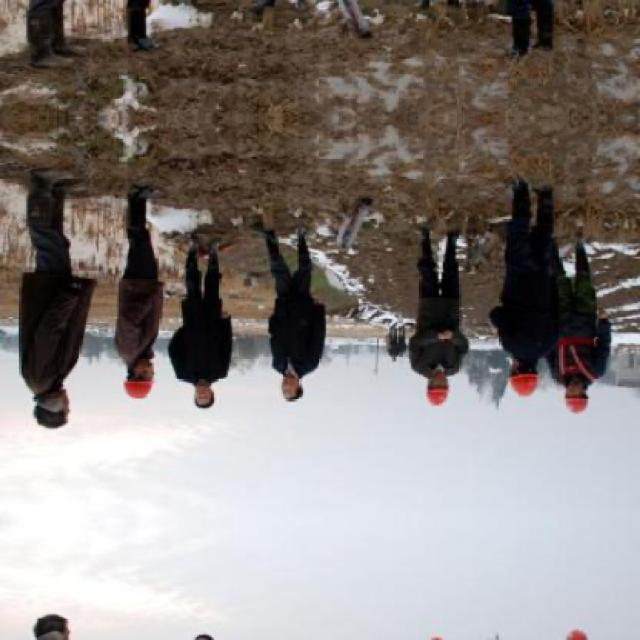con casco: (105, 359, 161, 404), (184, 371, 226, 409), (420, 382, 474, 408), (514, 361, 553, 393), (563, 389, 597, 416)
sin casco: (32, 384, 80, 439), (281, 370, 320, 410)
